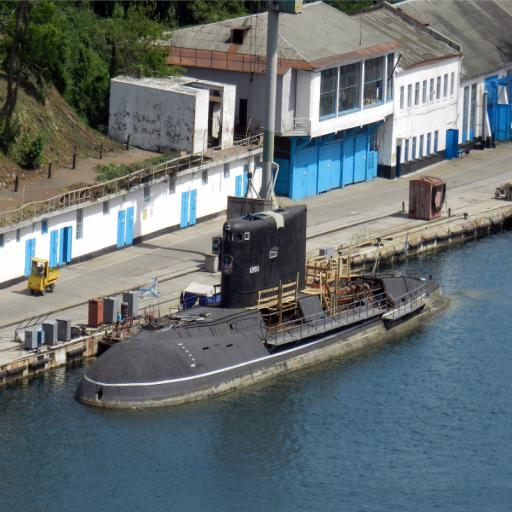submarine: (76, 201, 449, 409)
